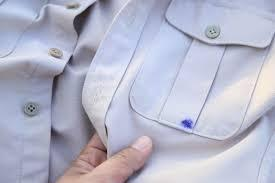ink: (181, 117, 193, 129)
